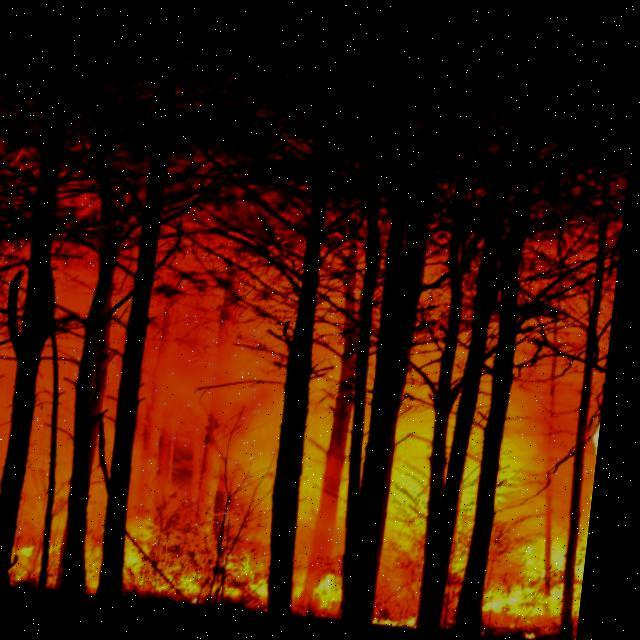Fire: (0, 336, 594, 629)
